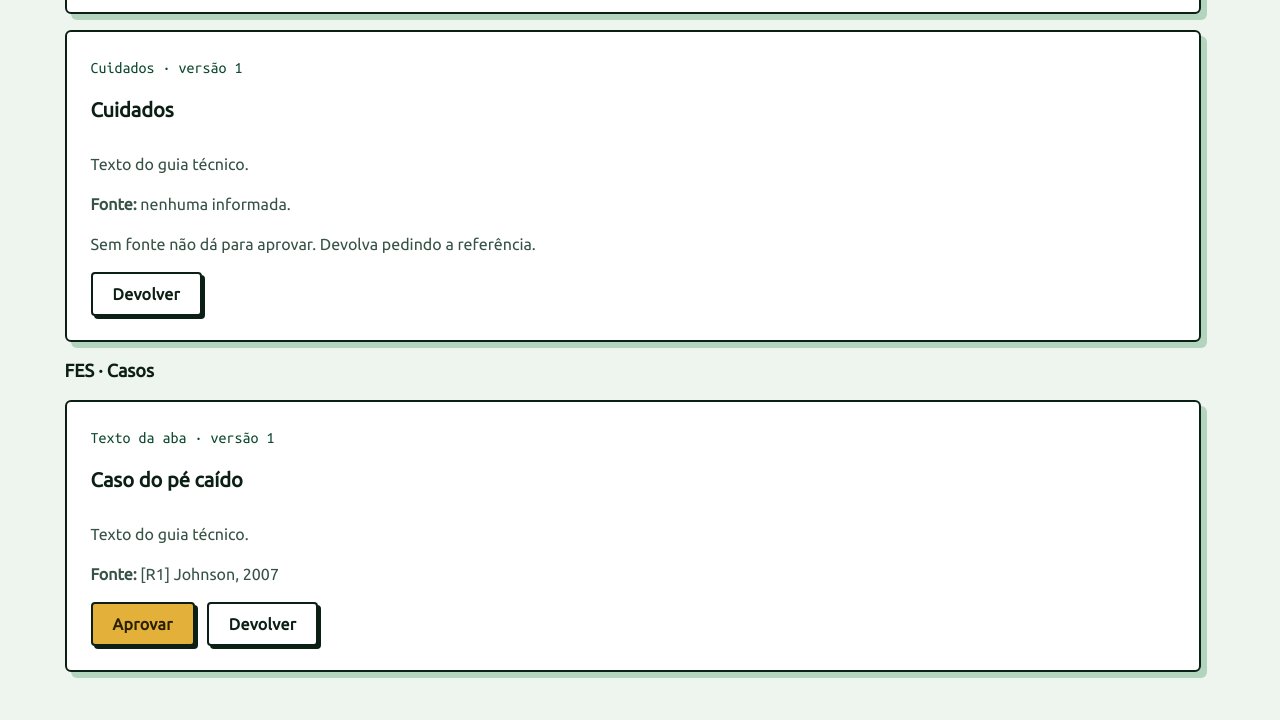
it: deveMostrarOErroDaDevolucaoDentroDoDialogo
(page scrolled)
Click the button with aria-label "Devolver Caso do pé caído".
click(262, 624)  # box [207,602,318,646]
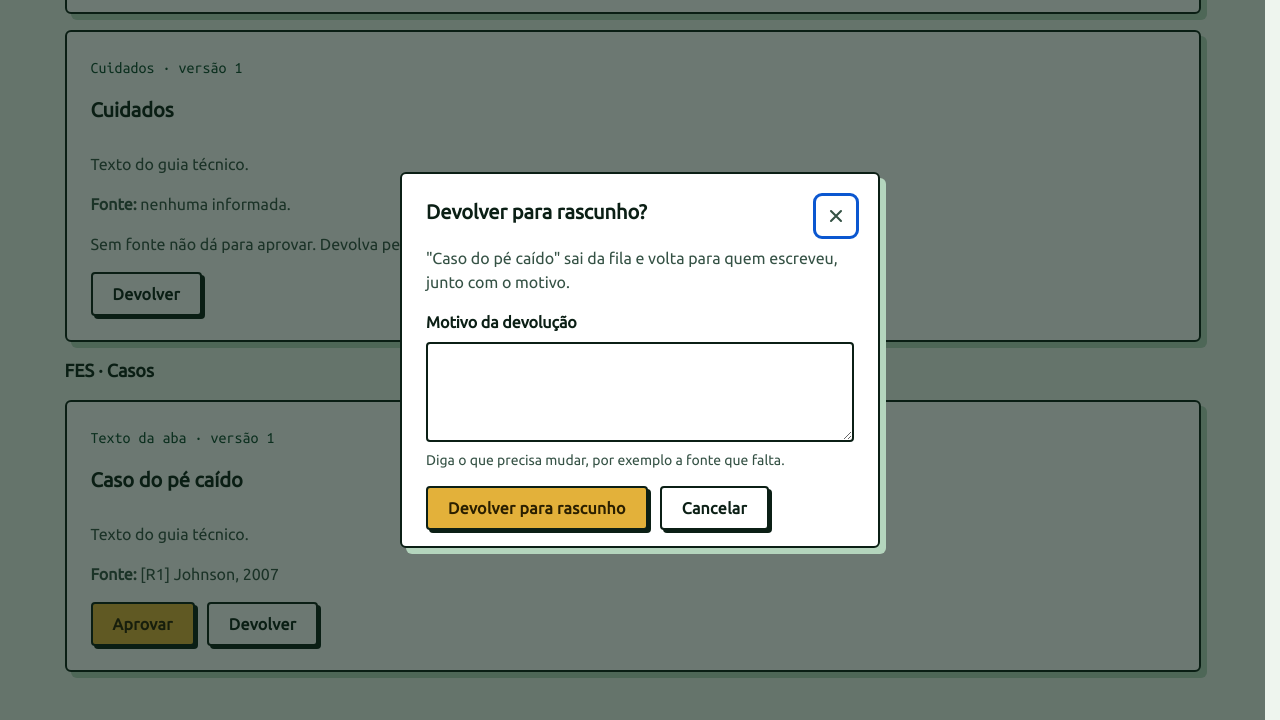
Type "Rever o caso." into the text box labelled "Motivo da devolução".
click(640, 392); type("Rever o caso.")  # box [428,344,852,440]
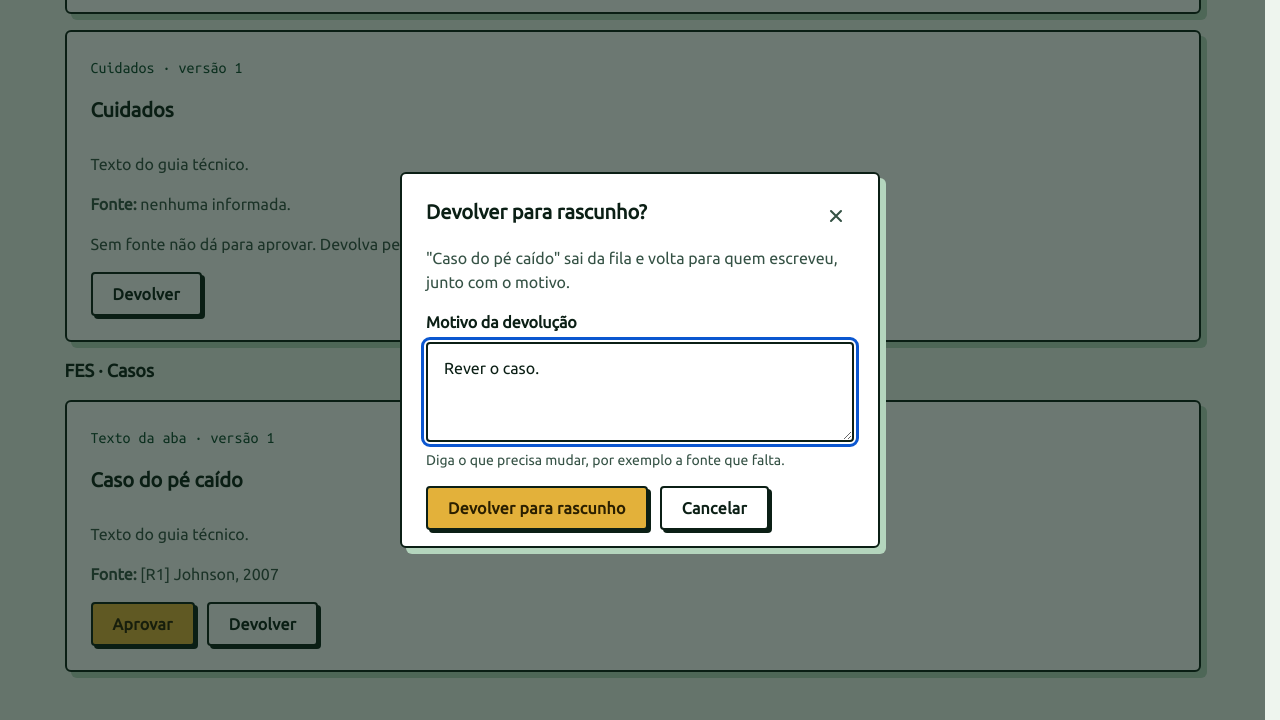
Click the button "Devolver para rascunho".
click(537, 508)  # box [426,486,648,530]
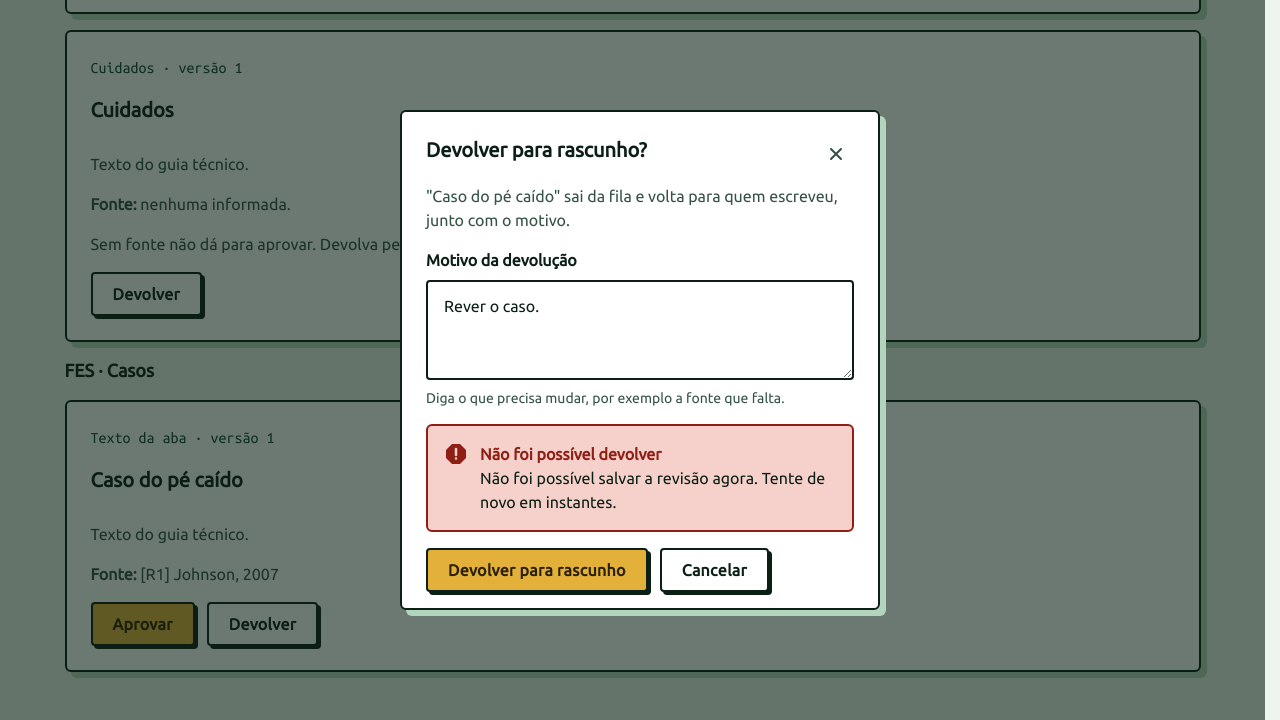
Now the message shows "Não foi possível salvar a revisão agora. Tente de novo em instantes.", box [480,469,825,511]
